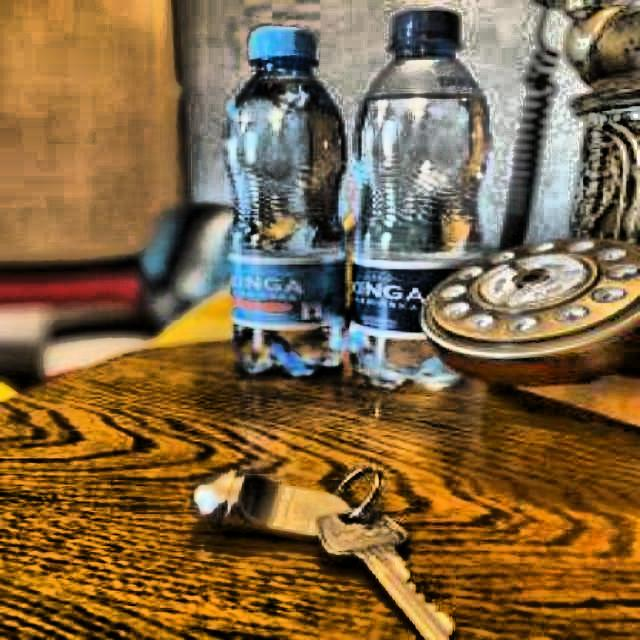Bottles: (220, 21, 345, 376)
